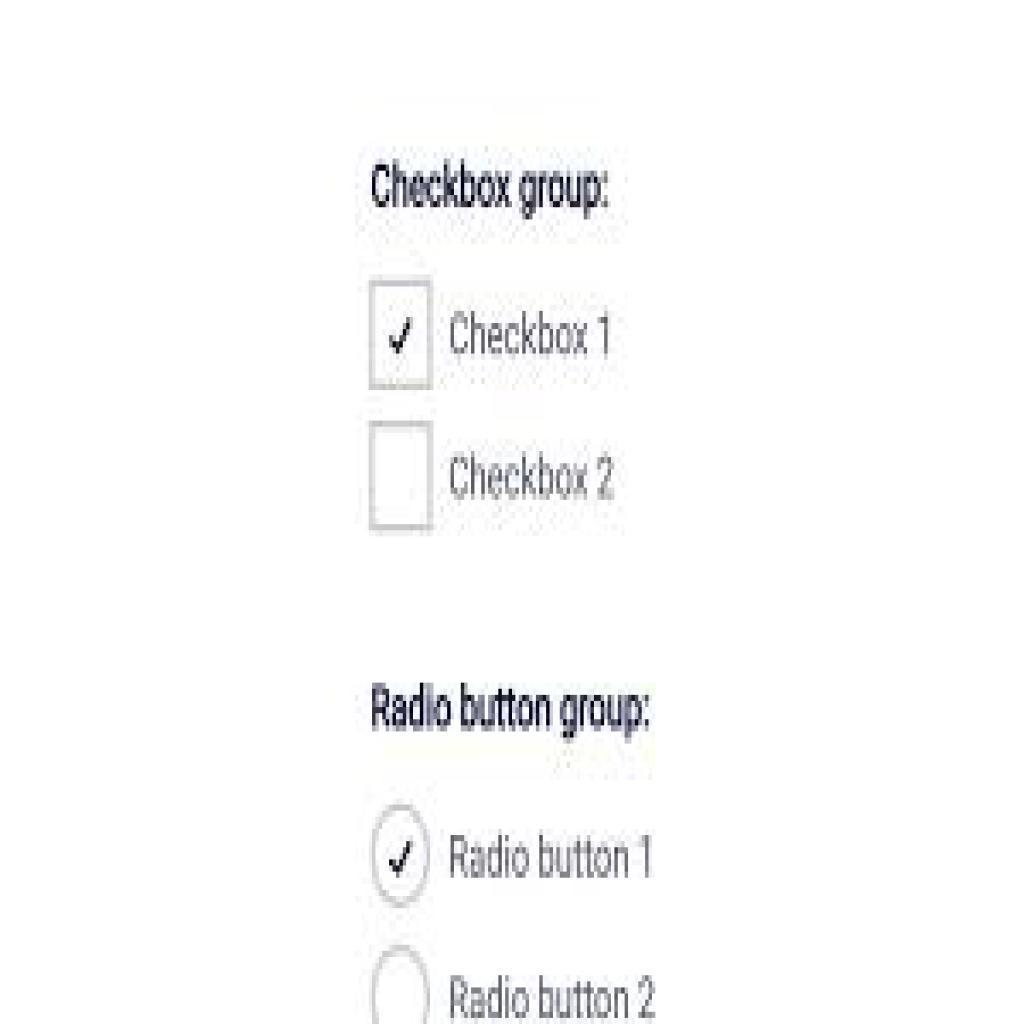checkbox: (369, 283, 436, 390), (371, 422, 432, 532)
radio: (368, 795, 437, 919), (370, 945, 434, 1024)
